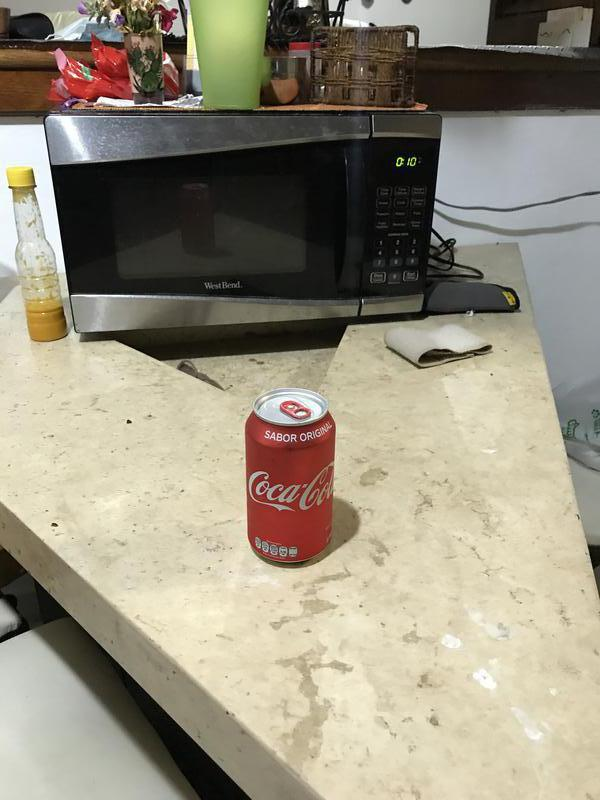coca_cola: (246, 388, 337, 565)
